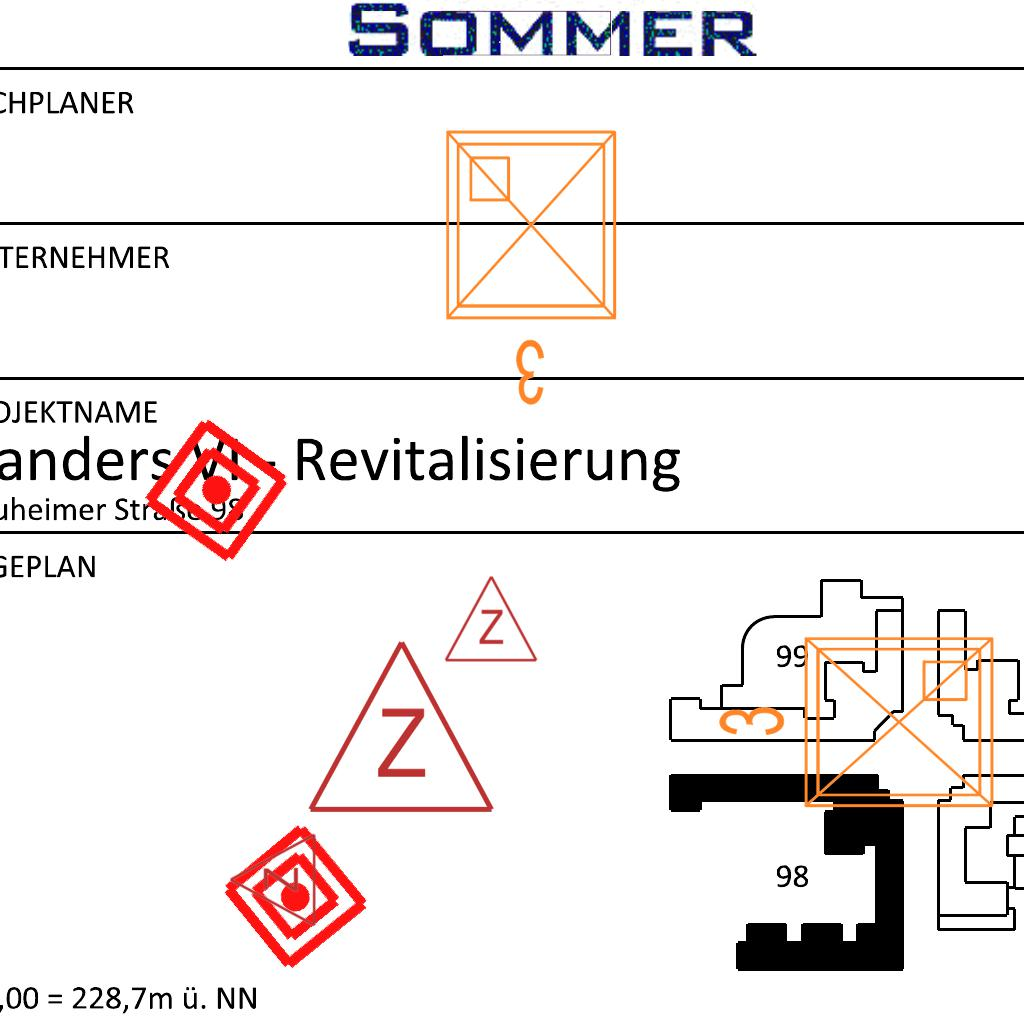Einbaudownlights_LED_Konferenzraeume: (708, 622, 1008, 830), (431, 116, 639, 416)
NAM-Nichtautomatischer_Melder: (137, 411, 296, 570), (216, 817, 375, 976)
Zimmersignalleuchte: (301, 627, 497, 827), (441, 569, 539, 669), (223, 832, 323, 930)
